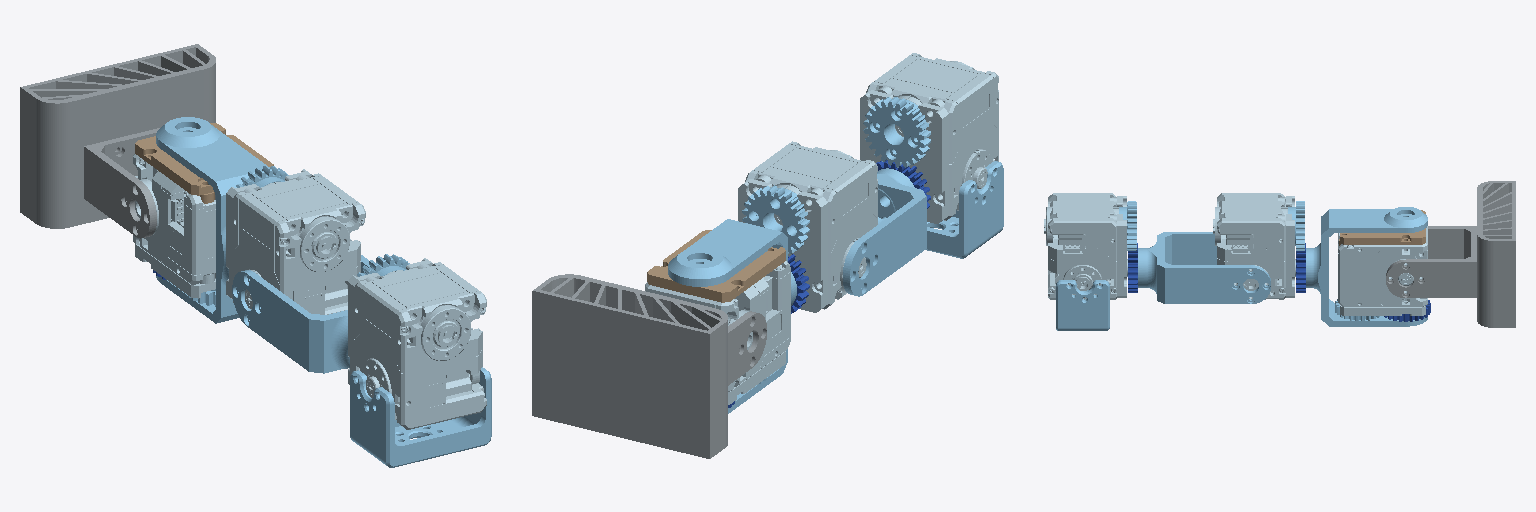
The robot description file, URDF, robot "right_arm_active":
<?xml version="1.0" ?>
<robot name="right_arm_active">
  <link name="sho_pitch_link">
    <visual>
      <origin xyz="0 0 0" rpy="0 -0 0"/>
      <geometry>
        <mesh filename="package:///meshes/right_sho_pitch_link_visual.stl"/>
      </geometry>
      <material name="sho_pitch_link_material">
        <color rgba="0.61568627450980395466 0.81176470588235294379 0.92941176470588227065 1.0"/>
      </material>
    </visual>
    <collision>
      <origin xyz="0 0 0" rpy="0 -0 0"/>
      <geometry>
        <mesh filename="package:///meshes/right_sho_pitch_link_collision.stl"/>
      </geometry>
    </collision>
    <inertial>
      <origin xyz="-1.025903438159899119e-18 -2.1966078074444289517e-18 0.012913250798677602602" rpy="0 0 0"/>
      <mass value="0.0085999999999999982708"/>
      <inertia ixx="1.8365636406635814379e-06" ixy="2.7052466620977967735e-97" ixz="-6.0867229013657688598e-136" iyy="4.0110869076839152165e-06" iyz="-1.6935833339184753197e-44" izz="3.5160516450492493809e-06"/>
    </inertial>
  </link>

  <link name="2xl430_gears">
    <visual>
      <origin xyz="0 0 0" rpy="0 -0 0"/>
      <geometry>
        <mesh filename="package:///meshes/right_2xl430_gears_visual.stl"/>
      </geometry>
      <material name="2xl430_gears_material">
        <color rgba="0.75914767920569214965 0.85560384745670925444 0.90519468321360607721 1.0"/>
      </material>
    </visual>
    <collision>
      <origin xyz="0 0 0" rpy="0 -0 0"/>
      <geometry>
        <mesh filename="package:///meshes/right_2xl430_gears_collision.stl"/>
      </geometry>
    </collision>
    <inertial>
      <origin xyz="-0.011592905737978696085 -0.0024238553642522840843 -0.018551095523803726173" rpy="0 0 0"/>
      <mass value="0.11800003674524911501"/>
      <inertia ixx="2.7511021050424646017e-05" ixy="9.0043904315135573925e-07" ixz="-2.3349710123960218718e-08" iyy="3.2796197843346207182e-05" iyz="-6.5715119654693386146e-07" izz="3.5775739835740998952e-05"/>
    </inertial>
  </link>

  <link name="spur_1m_24t_drive">
    <visual>
      <origin xyz="0 0 0" rpy="0 -0 0"/>
      <geometry>
        <mesh filename="package:///meshes/right_spur_1m_24t_drive_visual.stl"/>
      </geometry>
      <material name="spur_1m_24t_drive_material">
        <color rgba="0.61568627450980395466 0.81176470588235294379 0.92941176470588238168 1.0"/>
      </material>
    </visual>
    <collision>
      <origin xyz="0 0 0" rpy="0 -0 0"/>
      <geometry>
        <mesh filename="package:///meshes/right_spur_1m_24t_drive_collision.stl"/>
      </geometry>
    </collision>
    <inertial>
      <origin xyz="3.0326032612408354263e-15 -3.3912620811388938008e-16 0.0048096451474093030592" rpy="0 0 0"/>
      <mass value="0.0031999999999999997197"/>
      <inertia ixx="1.4097598887016958673e-07" ixy="1.556282310200251252e-15" ixz="3.9554371954665940773e-37" iyy="1.4097598803635998845e-07" iyz="-1.3068306635892902166e-36" izz="2.4107776386988835496e-07"/>
    </inertial>
  </link>

  <joint name="right_sho_yaw_drive" type="fixed">
    <origin xyz="-0.024000000716138267243 -0.019000000152445337132 -0.019000000152448424939" rpy="1.5707963267949289765 -7.4062049324254792929e-14 1.9645226351351914911e-14"/>
    <parent link="2xl430_gears"/>
    <child link="spur_1m_24t_drive"/>
    <axis xyz="0 0 1"/>
    <limit effort="1" velocity="20"/>
    <joint_properties friction="0.0"/>
  </joint>

  <link name="spur_1m_24t_driven">
    <visual>
      <origin xyz="0 0 0" rpy="0 -0 0"/>
      <geometry>
        <mesh filename="package:///meshes/right_spur_1m_24t_driven_visual.stl"/>
      </geometry>
      <material name="spur_1m_24t_driven_material">
        <color rgba="0.23137254901960788156 0.38039215686274502337 0.7058823529411765163 1.0"/>
      </material>
    </visual>
    <collision>
      <origin xyz="0 0 0" rpy="0 -0 0"/>
      <geometry>
        <mesh filename="package:///meshes/right_spur_1m_24t_driven_collision.stl"/>
      </geometry>
    </collision>
    <inertial>
      <origin xyz="-2.690304390834019776e-18 -1.6883842059581361246e-15 -0.00097237500038395777158" rpy="0 0 0"/>
      <mass value="0.0026999999999999997093"/>
      <inertia ixx="1.2202334915684080498e-07" ixy="0" ixz="0" iyy="1.2202334915684064616e-07" iyz="-3.1611202962161956801e-37" izz="2.3180293204341252239e-07"/>
    </inertial>
  </link>

  <link name="sho_yaw_link">
    <visual>
      <origin xyz="0 0 0" rpy="0 -0 0"/>
      <geometry>
        <mesh filename="package:///meshes/right_sho_yaw_link_visual.stl"/>
      </geometry>
      <material name="sho_yaw_link_material">
        <color rgba="0.61568627450980395466 0.81176470588235294379 0.92941176470588238168 1.0"/>
      </material>
    </visual>
    <collision>
      <origin xyz="0 0 0" rpy="0 -0 0"/>
      <geometry>
        <mesh filename="package:///meshes/right_sho_yaw_link_collision.stl"/>
      </geometry>
    </collision>
    <inertial>
      <origin xyz="-1.3035740535093626537e-18 2.6069328434162263936e-18 -0.024649285094360089132" rpy="0 0 0"/>
      <mass value="0.014500000000000007674"/>
      <inertia ixx="9.2365904614004439553e-06" ixy="3.5862833440690451918e-13" ixz="3.9137616104652588598e-44" iyy="5.8163826335078791714e-06" iyz="-5.7710285861749289932e-36" izz="4.5074356741562122031e-06"/>
    </inertial>
  </link>

  <link name="2xl430_gears_2">
    <visual>
      <origin xyz="0 0 0" rpy="0 -0 0"/>
      <geometry>
        <mesh filename="package:///meshes/right_2xl430_gears_2_visual.stl"/>
      </geometry>
      <material name="2xl430_gears_2_material">
        <color rgba="0.75914767920569214965 0.85560384745670925444 0.90519468321360607721 1.0"/>
      </material>
    </visual>
    <collision>
      <origin xyz="0 0 0" rpy="0 -0 0"/>
      <geometry>
        <mesh filename="package:///meshes/right_2xl430_gears_2_collision.stl"/>
      </geometry>
    </collision>
    <inertial>
      <origin xyz="-0.011592905737984599349 -0.0024238553642520555345 -0.018551095523805894577" rpy="0 0 0"/>
      <mass value="0.11800003674524911501"/>
      <inertia ixx="2.7511021050426052092e-05" ixy="9.0043904315050616521e-07" ixz="-2.3349710123664931783e-08" iyy="3.2796197843347223622e-05" iyz="-6.5715119654724408728e-07" izz="3.5775739835742259337e-05"/>
    </inertial>
  </link>

  <link name="spur_1m_24t_drive_2">
    <visual>
      <origin xyz="0 0 0" rpy="0 -0 0"/>
      <geometry>
        <mesh filename="package:///meshes/right_spur_1m_24t_drive_2_visual.stl"/>
      </geometry>
      <material name="spur_1m_24t_drive_2_material">
        <color rgba="0.61568627450980395466 0.81176470588235294379 0.92941176470588238168 1.0"/>
      </material>
    </visual>
    <collision>
      <origin xyz="0 0 0" rpy="0 -0 0"/>
      <geometry>
        <mesh filename="package:///meshes/right_spur_1m_24t_drive_2_collision.stl"/>
      </geometry>
    </collision>
    <inertial>
      <origin xyz="3.0256643673369285924e-15 -3.3912620813973872492e-16 0.0048096451474092995898" rpy="0 0 0"/>
      <mass value="0.0031999999999999997197"/>
      <inertia ixx="1.4097598887016958673e-07" ixy="1.5562823048769074231e-15" ixz="-2.8340681600212421658e-36" iyy="1.4097598803635996198e-07" iyz="1.2526517803646001736e-36" izz="2.4107776386988835496e-07"/>
    </inertial>
  </link>

  <joint name="right_elbow_yaw_drive" type="fixed">
    <origin xyz="-0.024000000716147162905 -0.019000000152450874369 -0.019000000152450294971" rpy="1.5707963267950022512 -1.2151179192951298761e-14 -8.3478238015103697896e-15"/>
    <parent link="2xl430_gears_2"/>
    <child link="spur_1m_24t_drive_2"/>
    <axis xyz="0 0 1"/>
    <limit effort="1" velocity="20"/>
    <joint_properties friction="0.0"/>
  </joint>

  <link name="spur_1m_24t_driven_2">
    <visual>
      <origin xyz="0 0 0" rpy="0 -0 0"/>
      <geometry>
        <mesh filename="package:///meshes/right_spur_1m_24t_driven_2_visual.stl"/>
      </geometry>
      <material name="spur_1m_24t_driven_2_material">
        <color rgba="0.23137254901960788156 0.38039215686274502337 0.7058823529411765163 1.0"/>
      </material>
    </visual>
    <collision>
      <origin xyz="0 0 0" rpy="0 -0 0"/>
      <geometry>
        <mesh filename="package:///meshes/right_spur_1m_24t_driven_2_collision.stl"/>
      </geometry>
    </collision>
    <inertial>
      <origin xyz="-2.690304390834019776e-18 -1.6883842059581371106e-15 -0.00097237500038396460205" rpy="0 0 0"/>
      <mass value="0.0026999999999999997093"/>
      <inertia ixx="1.2202334915684080498e-07" ixy="3.8503779869585959908e-37" ixz="1.8410192092776977521e-66" iyy="1.2202334915684064616e-07" iyz="1.7901380328147422279e-36" izz="2.3180293204341252239e-07"/>
    </inertial>
  </link>

  <link name="elb_yaw_link">
    <visual>
      <origin xyz="0 0 0" rpy="0 -0 0"/>
      <geometry>
        <mesh filename="package:///meshes/right_elb_yaw_link_visual.stl"/>
      </geometry>
      <material name="elb_yaw_link_material">
        <color rgba="0.61568627450980395466 0.81176470588235294379 0.92941176470588227065 1.0"/>
      </material>
    </visual>
    <collision>
      <origin xyz="0 0 0" rpy="0 -0 0"/>
      <geometry>
        <mesh filename="package:///meshes/right_elb_yaw_link_collision.stl"/>
      </geometry>
    </collision>
    <inertial>
      <origin xyz="5.3127688027774929136e-08 0.0019833638641961648559 -0.02341664355154993854" rpy="0 0 0"/>
      <mass value="0.017500000000000005135"/>
      <inertia ixx="1.4134344903109199776e-05" ixy="1.6945783922006116668e-12" ixz="-1.1286398721833140765e-11" iyy="6.6435900776211340404e-06" iyz="1.0545227077253051227e-06" izz="8.9925290757998993713e-06"/>
    </inertial>
  </link>

  <link name="spur_1m_24t_driven_3">
    <visual>
      <origin xyz="0 0 0" rpy="0 -0 0"/>
      <geometry>
        <mesh filename="package:///meshes/right_spur_1m_24t_driven_3_visual.stl"/>
      </geometry>
      <material name="spur_1m_24t_driven_3_material">
        <color rgba="0.23137254901960788156 0.38039215686274502337 0.7058823529411765163 1.0"/>
      </material>
    </visual>
    <collision>
      <origin xyz="0 0 0" rpy="0 -0 0"/>
      <geometry>
        <mesh filename="package:///meshes/right_spur_1m_24t_driven_3_collision.stl"/>
      </geometry>
    </collision>
    <inertial>
      <origin xyz="2.5065271224795038179e-17 -1.6883842059581323775e-15 -0.0025723750003839550293" rpy="0 0 0"/>
      <mass value="0.0026999999999999997093"/>
      <inertia ixx="1.2202334915684080498e-07" ixy="1.6801645595678856956e-36" ixz="1.4628821664372086897e-36" iyy="1.2202334915684064616e-07" iyz="0" izz="2.3180293204341252239e-07"/>
    </inertial>
  </link>

  <link name="2xl430_gears_3">
    <visual>
      <origin xyz="0 0 0" rpy="0 -0 0"/>
      <geometry>
        <mesh filename="package:///meshes/right_2xl430_gears_3_visual.stl"/>
      </geometry>
      <material name="2xl430_gears_3_material">
        <color rgba="0.75914767920569214965 0.85560384745670925444 0.90519468321360607721 1.0"/>
      </material>
    </visual>
    <collision>
      <origin xyz="0 0 0" rpy="0 -0 0"/>
      <geometry>
        <mesh filename="package:///meshes/right_2xl430_gears_3_collision.stl"/>
      </geometry>
    </collision>
    <inertial>
      <origin xyz="0.00044890447620015019132 0.011592905379911784894 -0.024576144788197192698" rpy="0 0 0"/>
      <mass value="0.11800003674524911501"/>
      <inertia ixx="3.5775739835742767557e-05" ixy="2.3349710123598390066e-08" ixz="6.5715119654677461927e-07" iyy="2.7511021050425875909e-05" iyz="9.0043904315183537166e-07" izz="3.2796197843346695073e-05"/>
    </inertial>
  </link>

  <link name="spur_1m_24t_drive_3">
    <visual>
      <origin xyz="0 0 0" rpy="0 -0 0"/>
      <geometry>
        <mesh filename="package:///meshes/right_spur_1m_24t_drive_3_visual.stl"/>
      </geometry>
      <material name="spur_1m_24t_drive_3_material">
        <color rgba="0.61568627450980395466 0.81176470588235294379 0.92941176470588238168 1.0"/>
      </material>
    </visual>
    <collision>
      <origin xyz="0 0 0" rpy="0 -0 0"/>
      <geometry>
        <mesh filename="package:///meshes/right_spur_1m_24t_drive_3_collision.stl"/>
      </geometry>
    </collision>
    <inertial>
      <origin xyz="3.0326032612408362152e-15 -3.3912620813973872492e-16 0.0048096451474093065287" rpy="0 0 0"/>
      <mass value="0.0031999999999999997197"/>
      <inertia ixx="1.409759888701696132e-07" ixy="1.5562823122431795239e-15" ixz="9.6598469821100867444e-37" iyy="1.4097598803636004139e-07" iyz="-1.7762240303079187312e-37" izz="2.4107776386988835496e-07"/>
    </inertial>
  </link>

  <joint name="right_wrist_pitch_drive" type="fixed">
    <origin xyz="-1.5244312511681577095e-10 0.024000000358071732487 -0.0080000000000008709977" rpy="1.2483159056318864267e-14 7.3485321852726251993e-14 -1.5707963267948599206"/>
    <parent link="2xl430_gears_3"/>
    <child link="spur_1m_24t_drive_3"/>
    <axis xyz="0 0 1"/>
    <limit effort="1" velocity="20"/>
    <joint_properties friction="0.0"/>
  </joint>

  <link name="hand">
    <visual>
      <origin xyz="0 0 0" rpy="0 -0 0"/>
      <geometry>
        <mesh filename="package:///meshes/right_hand_visual.stl"/>
      </geometry>
      <material name="hand_material">
        <color rgba="0.64149913129808888712 0.67624720774385704836 0.69709605361131798951 1.0"/>
      </material>
    </visual>
    <collision>
      <origin xyz="0 0 0" rpy="0 -0 0"/>
      <geometry>
        <mesh filename="package:///meshes/right_hand_collision.stl"/>
      </geometry>
    </collision>
    <inertial>
      <origin xyz="0.0037132560777026323712 -0.042135580180293688568 -0.018486870577627653039" rpy="0 0 0"/>
      <mass value="0.039499999999999986511"/>
      <inertia ixx="2.4655505305535383863e-05" ixy="6.2292690365591973125e-07" ixz="-1.3905201231125081665e-08" iyy="2.5499495708696300544e-05" iyz="4.048228436147505174e-08" izz="1.3476712280060873444e-05"/>
    </inertial>
  </link>

  <joint name="right_wrist_roll" type="revolute">
    <origin xyz="0.019000000000002754269 -3.5806785314562716849e-10 -0.02700000015244990656" rpy="5.2111933288359401161e-30 1.570796326794831943 0"/>
    <parent link="2xl430_gears_3"/>
    <child link="hand"/>
    <axis xyz="0 0 1"/>
    <limit effort="1" velocity="20" lower="-1.3962634015954635824" upper="1.9198621771937625091"/>
    <joint_properties friction="0.0"/>
  </joint>

  <link name="wrist_bearing_plate">
    <visual>
      <origin xyz="0 0 0" rpy="0 -0 0"/>
      <geometry>
        <mesh filename="package:///meshes/right_wrist_bearing_plate_visual.stl"/>
      </geometry>
      <material name="wrist_bearing_plate_material">
        <color rgba="0.71932243125689054875 0.63128434304969727187 0.52422389360984933404 1.0"/>
      </material>
    </visual>
    <collision>
      <origin xyz="0 0 0" rpy="0 -0 0"/>
      <geometry>
        <mesh filename="package:///meshes/right_wrist_bearing_plate_collision.stl"/>
      </geometry>
    </collision>
    <inertial>
      <origin xyz="-0.0075835583121499801351 -0.015499999999999977338 -0.0018386323705903331437" rpy="0 0 0"/>
      <mass value="0.0049000367468305557062"/>
      <inertia ixx="4.9707430109150129132e-07" ixy="1.3510663819638977183e-22" ixz="1.8100904820814035248e-08" iyy="7.1268523603538595411e-07" iyz="1.9159694223314982598e-23" izz="1.1919657811600109234e-06"/>
    </inertial>
  </link>

  <joint name="right_wrist_pitch_fixed" type="fixed">
    <origin xyz="0.015500000000003967202 4.5519144009631418157e-15 -0.045000000000003738398" rpy="-3.053113317715679127e-15 1.2051470932306202988e-13 -1.570796326794896558"/>
    <parent link="2xl430_gears_3"/>
    <child link="wrist_bearing_plate"/>
    <axis xyz="0 0 1"/>
    <limit effort="1" velocity="20"/>
    <joint_properties friction="0.0"/>
  </joint>

  <joint name="right_wrist_pitch" type="revolute">
    <origin xyz="2.7755575615628913511e-17 3.1554436208840472216e-30 -0.0015999999999999940051" rpy="-2.7183456742960519592e-16 6.3108872417680986472e-30 1.570796326794896558"/>
    <parent link="spur_1m_24t_driven_3"/>
    <child link="2xl430_gears_3"/>
    <axis xyz="0 0 1"/>
    <limit effort="1" velocity="20" lower="-1.9198621771937625091" upper="1.3962634015954635824"/>
    <joint_properties friction="0.0"/>
  </joint>

  <joint name="right_wrist_roll_fixed" type="fixed">
    <origin xyz="5.5220263365470826379e-30 -0.025299999999999999573 -0.051999999999999990674" rpy="1.570796326794896558 1.570796326794896558 0"/>
    <parent link="elb_yaw_link"/>
    <child link="spur_1m_24t_driven_3"/>
    <axis xyz="0 0 1"/>
    <limit effort="1" velocity="20"/>
    <joint_properties friction="0.0"/>
  </joint>

  <joint name="right_elbow_yaw_fixed" type="fixed">
    <origin xyz="-3.4694469519536141888e-18 7.8886090522101180541e-31 0.0015999999999999903189" rpy="3.141592653589793116 5.5511151240344814396e-17 -1.5707963267948970021"/>
    <parent link="spur_1m_24t_driven_2"/>
    <child link="elb_yaw_link"/>
    <axis xyz="0 0 1"/>
    <limit effort="1" velocity="20"/>
    <joint_properties friction="0.0"/>
  </joint>

  <joint name="right_elbow_yaw" type="revolute">
    <origin xyz="-3.5807255424624706563e-10 -0.027000000152453657032 -0.019000000000001768946" rpy="1.570796326794956066 3.0087043967523975425e-14 -4.0634162701317111644e-14"/>
    <parent link="2xl430_gears_2"/>
    <child link="spur_1m_24t_driven_2"/>
    <axis xyz="0 0 1"/>
    <limit effort="1" velocity="20" lower="-2.6179938779914944114" upper="2.6179938779914944114"/>
    <joint_properties friction="0.0"/>
  </joint>

  <joint name="right_elbow_roll" type="revolute">
    <origin xyz="-8.4654505627668186207e-16 -0.018999999999998996858 -0.05900000000000006628" rpy="1.570796326794896558 -7.4924624234411720275e-14 -2.6978419498846060156e-14"/>
    <parent link="sho_yaw_link"/>
    <child link="2xl430_gears_2"/>
    <axis xyz="0 0 1"/>
    <limit effort="1" velocity="20" lower="-1.9198621771937625091" upper="2.4434609527920612138"/>
    <joint_properties friction="0.0"/>
  </joint>

  <joint name="right_sho_yaw_fixed" type="fixed">
    <origin xyz="0 3.9443045261050590271e-31 0.0015999999999999972577" rpy="3.141592653589793116 -5.0487097934144755546e-29 -1.8301573001127473886e-28"/>
    <parent link="spur_1m_24t_driven"/>
    <child link="sho_yaw_link"/>
    <axis xyz="0 0 1"/>
    <limit effort="1" velocity="20"/>
    <joint_properties friction="0.0"/>
  </joint>

  <joint name="right_sho_yaw" type="revolute">
    <origin xyz="-3.5806816886529979627e-10 -0.027000000152446666096 -0.019000000000003354483" rpy="1.5707963267949260899 -2.2055090607973039157e-14 7.6050277186033683693e-15"/>
    <parent link="2xl430_gears"/>
    <child link="spur_1m_24t_driven"/>
    <axis xyz="0 0 1"/>
    <limit effort="1" velocity="20" lower="-2.6179938779914944114" upper="2.6179938779914944114"/>
    <joint_properties friction="0.0"/>
  </joint>

  <joint name="right_sho_roll" type="revolute">
    <origin xyz="-0.018999999999999999528 9.3241386833306442318e-18 0.027000000000000006634" rpy="3.141592653589793116 1.5707963267948952257 0"/>
    <parent link="sho_pitch_link"/>
    <child link="2xl430_gears"/>
    <axis xyz="0 0 1"/>
    <limit effort="1" velocity="20" lower="-1.570796326794896558" upper="0.34906585039886589561"/>
    <joint_properties friction="0.0"/>
  </joint>


</robot>

--- What the picture shows (computed from the rendered views, not written in the file) ---
3 views of the same robot in one strip: view 1: azimuth 30°, elevation 25°; view 2: azimuth 150°, elevation 25°; view 3: azimuth 270°, elevation 25° (orthographic).
Model right_arm_active with 14 links and 13 joints (6 revolute, 7 fixed), rooted at sho_pitch_link, posed all joints at 0.
Links seen in each view (by area): view 1: hand, 2xl430_gears, 2xl430_gears_2, 2xl430_gears_3, sho_pitch_link, elb_yaw_link, sho_yaw_link, wrist_bearing_plate, spur_1m_24t_drive, spur_1m_24t_drive_2; view 2: hand, 2xl430_gears, 2xl430_gears_2, sho_yaw_link, elb_yaw_link, 2xl430_gears_3, sho_pitch_link, spur_1m_24t_drive, wrist_bearing_plate, spur_1m_24t_drive_2, spur_1m_24t_driven_2, spur_1m_24t_driven; view 3: hand, 2xl430_gears, sho_yaw_link, 2xl430_gears_2, 2xl430_gears_3, elb_yaw_link, sho_pitch_link, wrist_bearing_plate, spur_1m_24t_drive, spur_1m_24t_drive_2.
Link boxes in pixels (x1,y1,x2,y2): hand: [20, 44, 215, 238]; 2xl430_gears: [348, 258, 486, 429]; 2xl430_gears_2: [226, 169, 365, 314]; 2xl430_gears_3: [133, 154, 215, 298]; sho_pitch_link: [350, 367, 491, 467]; elb_yaw_link: [156, 117, 269, 323]; sho_yaw_link: [232, 255, 369, 373]; wrist_bearing_plate: [135, 123, 273, 203]; spur_1m_24t_drive: [357, 254, 409, 276]; spur_1m_24t_drive_2: [236, 166, 288, 187]; hand: [532, 274, 766, 458]; 2xl430_gears: [860, 53, 998, 223]; 2xl430_gears_2: [738, 141, 877, 312]; sho_yaw_link: [843, 168, 926, 296]; elb_yaw_link: [668, 219, 796, 413]; 2xl430_gears_3: [645, 261, 790, 404]; sho_pitch_link: [926, 161, 1003, 258]; spur_1m_24t_drive: [863, 97, 930, 167]; wrist_bearing_plate: [647, 230, 785, 302]; spur_1m_24t_drive_2: [742, 185, 809, 253]; spur_1m_24t_driven_2: [788, 254, 809, 313]; spur_1m_24t_driven: [876, 160, 930, 208]; hand: [1386, 181, 1515, 327]; 2xl430_gears: [1044, 193, 1127, 299]; sho_yaw_link: [1138, 232, 1270, 303]; 2xl430_gears_2: [1213, 193, 1295, 299]; 2xl430_gears_3: [1338, 226, 1427, 315]; elb_yaw_link: [1306, 207, 1427, 326]; sho_pitch_link: [1056, 280, 1109, 330]; wrist_bearing_plate: [1339, 210, 1425, 245]; spur_1m_24t_drive: [1119, 201, 1136, 250]; spur_1m_24t_drive_2: [1288, 201, 1304, 250].
Size in the robot's own frame: 0.074 by 0.2452 by 0.0652 metres.
14 mesh visuals loaded from 14 distinct referenced files (14 binary STL).